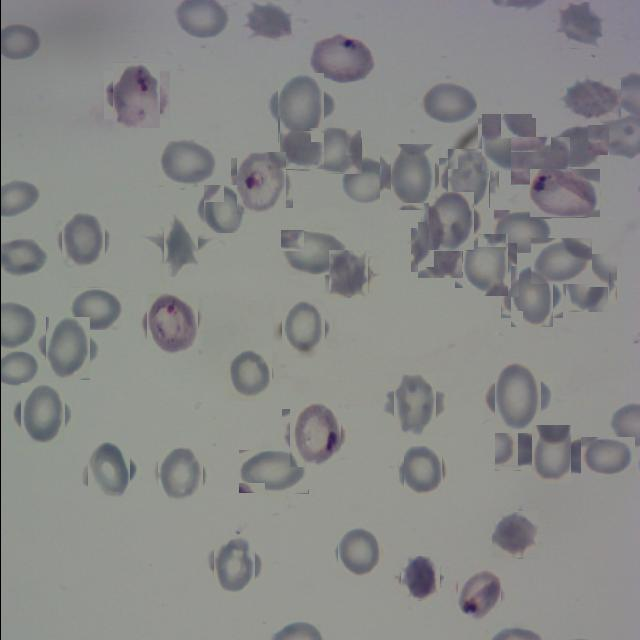leukocyte: (272, 78, 330, 136), (488, 368, 546, 426), (384, 149, 440, 205), (280, 230, 348, 276), (238, 450, 308, 494), (157, 139, 219, 188), (40, 322, 94, 376), (387, 378, 441, 432), (458, 238, 512, 292), (479, 116, 533, 170), (510, 137, 570, 185), (15, 388, 68, 442), (530, 238, 591, 284), (154, 448, 206, 501), (424, 195, 476, 248), (505, 271, 557, 323), (208, 539, 260, 590), (276, 303, 328, 354), (57, 215, 108, 266), (442, 153, 493, 204), (82, 446, 134, 496), (414, 224, 464, 276), (550, 124, 608, 168), (562, 257, 612, 308), (493, 208, 550, 252), (334, 528, 384, 578), (525, 430, 575, 480), (224, 350, 273, 400), (340, 155, 390, 204), (309, 128, 361, 174), (562, 78, 620, 119), (156, 222, 204, 270), (555, 2, 604, 49), (580, 437, 634, 478), (421, 83, 476, 123), (69, 288, 121, 330), (200, 186, 247, 232), (241, 1, 294, 41), (492, 512, 538, 558), (400, 448, 446, 493), (326, 252, 370, 296), (494, 432, 544, 470), (398, 557, 441, 600), (279, 130, 324, 170)
red blood cell: (284, 405, 344, 464), (529, 169, 600, 218), (107, 66, 164, 124), (143, 295, 200, 352), (233, 155, 289, 211), (455, 570, 502, 618)
